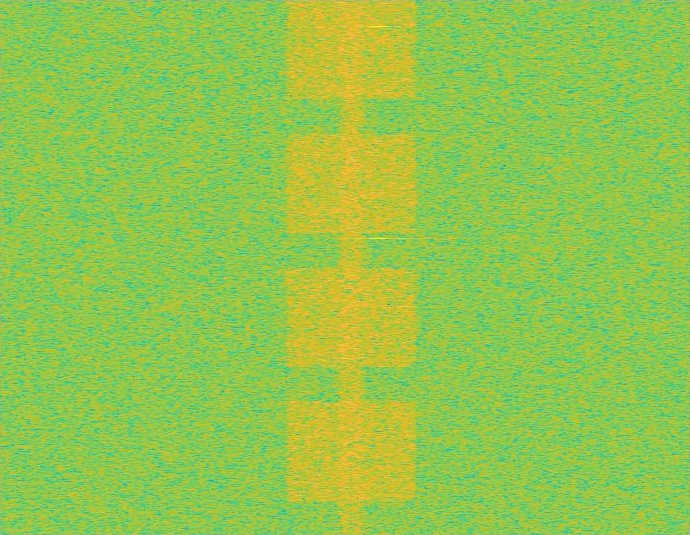5G: (282, 0, 420, 534)
DSSS: (336, 0, 367, 534)
Radar: (372, 0, 386, 534)
